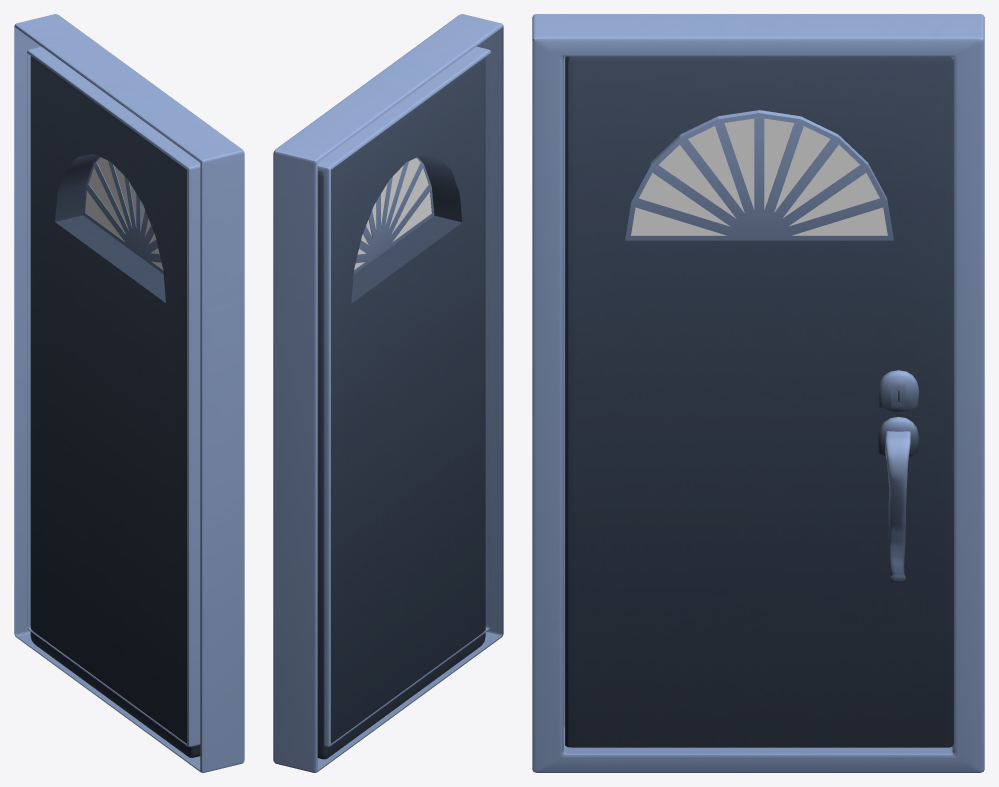
The model's file is Front_Door.fbx.
3 views of the same model, side by side, from view 1: azimuth 30°, elevation 25°; view 2: azimuth 150°, elevation 25°; view 3: azimuth 270°, elevation 25° (orthographic). The views are drawn at different scales.
Parts seen in each view (by area): view 1: polySurface4, pCube87, pCylinder82, pCylinder80; view 2: polySurface4, pCube87, pCylinder82, pCylinder80; view 3: polySurface4, pCube87, pCylinder80, pCylinder82, pCube85, pCube86, pCube84.
Part boxes in pixels (x1=…): polySurface4: x1=30, y1=56, x2=200, y2=757; pCube87: x1=14, y1=14, x2=244, y2=772; pCylinder82: x1=83, y1=157, x2=163, y2=273; pCylinder80: x1=85, y1=157, x2=163, y2=269; polySurface4: x1=317, y1=57, x2=485, y2=759; pCube87: x1=273, y1=14, x2=503, y2=772; pCylinder82: x1=353, y1=157, x2=434, y2=274; pCylinder80: x1=354, y1=158, x2=431, y2=269; polySurface4: x1=565, y1=56, x2=953, y2=747; pCube87: x1=532, y1=14, x2=984, y2=772; pCylinder80: x1=625, y1=110, x2=893, y2=240; pCylinder82: x1=631, y1=118, x2=887, y2=235; pCube85: x1=885, y1=431, x2=910, y2=583; pCube86: x1=877, y1=370, x2=919, y2=411; pCube84: x1=877, y1=417, x2=919, y2=456.
Size of the model in its own units: 65.71 by 589 by 328.
